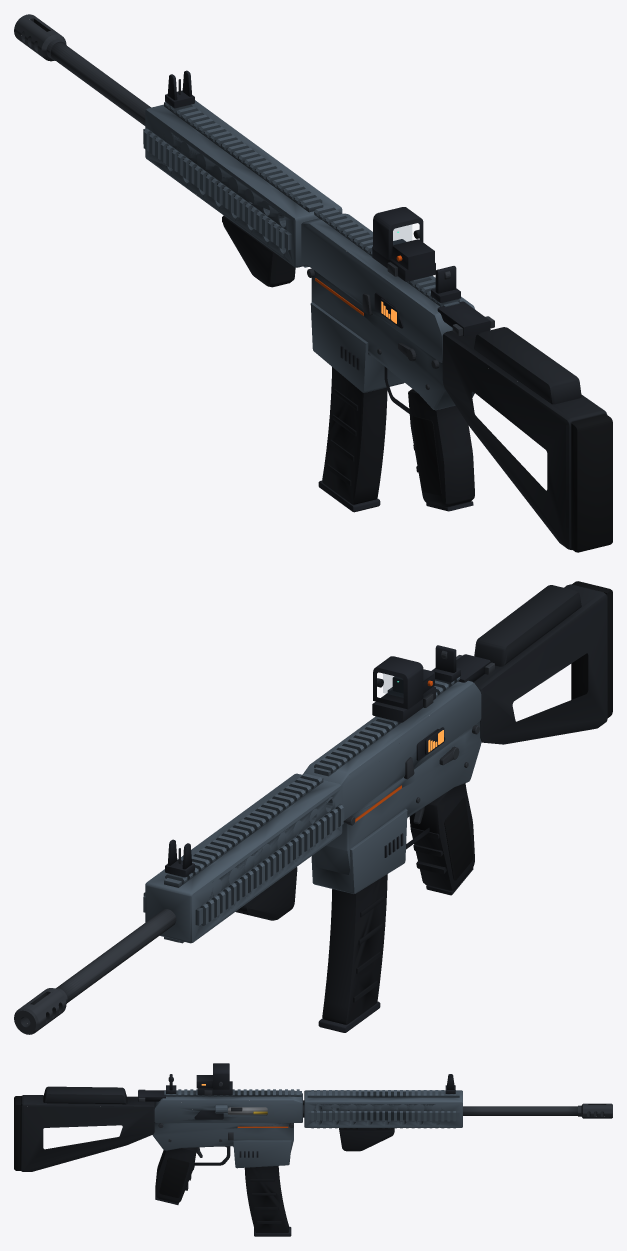
File: scar-l.glb
3 renders of one model, top to bottom at view 1: azimuth 30°, elevation 25°; view 2: azimuth 150°, elevation 25°; view 3: azimuth 270°, elevation 25°, orthographic. The views are drawn at different scales.
Parts seen in each view (by area): view 1: body_frame, body_furn, body_rubber, body_frame2, mag_polymer, body_polymer, body_steel; view 2: body_frame, body_furn, mag_polymer, body_frame2, body_steel, body_polymer, body_rubber; view 3: body_frame, body_furn, mag_polymer, body_frame2, body_steel, body_polymer, body_rubber, bolt_bolt.
Part boxes in pixels (x1,y1,x2,y2): body_frame: [143, 100, 475, 410]; body_furn: [442, 327, 607, 549]; body_rubber: [412, 414, 612, 552]; body_frame2: [165, 70, 490, 511]; mag_polymer: [322, 367, 387, 504]; body_polymer: [222, 215, 474, 507]; body_steel: [14, 14, 494, 389]; body_frame: [143, 677, 481, 943]; body_furn: [473, 584, 607, 744]; mag_polymer: [322, 874, 387, 1024]; body_frame2: [165, 645, 490, 895]; body_steel: [14, 650, 494, 1034]; body_polymer: [235, 783, 474, 920]; body_rubber: [444, 581, 612, 880]; body_frame: [152, 1089, 462, 1168]; body_furn: [21, 1086, 154, 1171]; mag_polymer: [244, 1166, 288, 1232]; body_frame2: [138, 1063, 455, 1204]; body_steel: [138, 1077, 612, 1157]; body_polymer: [155, 1128, 394, 1202]; body_rubber: [14, 1096, 189, 1197]; bolt_bolt: [228, 1107, 267, 1114].
Size of the model in its own units: 0.0668 by 0.3265 by 1.06.
